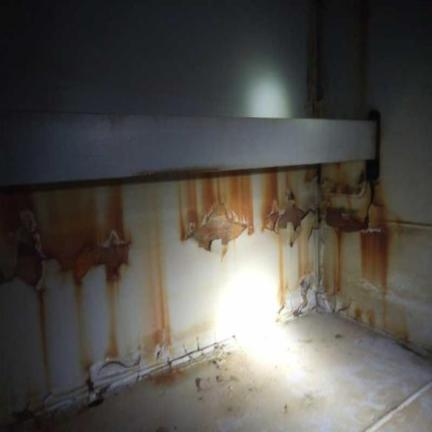karat: (44, 185, 130, 270), (325, 205, 395, 285)
